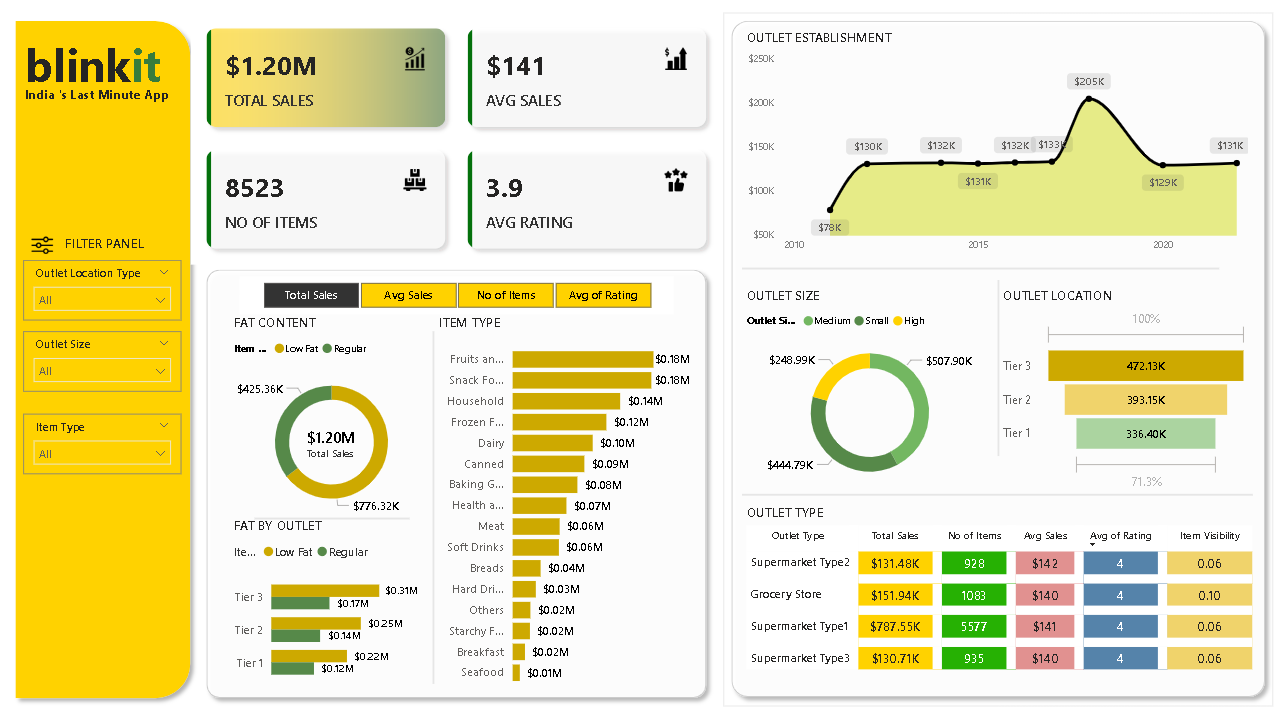

What the dashboard file says about the page in this screenshot:
{"tool":"powerbi","page":{"name":"Page 1","canvas":[1400,800],"ordinal":0},"visuals":[{"type":"shape","box":[31.5,30,205.6,744.4],"z":0},{"type":"textbox","box":[46.5,46.5,162.1,76.5],"z":1000},{"type":"textbox","box":[46.5,103.6,169.6,39],"z":2000},{"type":"cardVisual","fields":{"Data":["BlinkIT Grocery Data.Total Sales","BlinkIT Grocery Data.Avg Sales","BlinkIT Grocery Data.No of Items","BlinkIT Grocery Data.Avg of Rating"]},"box":[229.6,30,570.3,270.2],"z":3000},{"type":"shape","box":[237.1,295.7,553.8,477.3],"z":4000},{"type":"donutChart","title":"FAT CONTENT","fields":{"Y":["BlinkIT Grocery Data.Total Sales"],"Category":["BlinkIT Grocery Data.Item Fat Content"]},"box":[270.2,352.7,219.1,229.6],"z":5000},{"type":"slicer","fields":{"Values":["Metrics.Metrics"]},"box":[282.2,312.2,465.3,40.5],"z":6000},{"type":"cardVisual","fields":{"Data":["BlinkIT Grocery Data.Total Sales"]},"box":[322.7,445.8,112.6,88.6],"z":7000},{"type":"clusteredBarChart","title":"FAT BY OUTLET","fields":{"Y":["BlinkIT Grocery Data.Total Sales"],"Category":["BlinkIT Grocery Data.Outlet Location Type"],"Series":["BlinkIT Grocery Data.Item Fat Content"]},"box":[270.2,570.3,207.1,190.6],"z":8000},{"type":"shape","box":[297.2,505.8,166.6,133.6],"z":9000},{"type":"shape","box":[406.7,370.7,166.6,378.2],"z":10000},{"type":"barChart","title":"ITEM TYPE","fields":{"Y":["BlinkIT Grocery Data.Total Sales"],"Category":["BlinkIT Grocery Data.Item Type"]},"box":[490.8,352.7,282.2,408.2],"z":11000},{"type":"shape","box":[800,30,589.8,742.9],"z":12000},{"type":"lineChart","title":"OUTLET ESTABLISHMENT","fields":{"Category":["BlinkIT Grocery Data.Outlet Establishment Year"],"Y":["BlinkIT Grocery Data.Total Sales"]},"box":[821,46.5,547.8,249.1],"z":13000},{"type":"shape","box":[821,237.1,511.8,133.6],"z":14000},{"type":"donutChart","title":"OUTLET SIZE","fields":{"Y":["BlinkIT Grocery Data.Total Sales"],"Category":["BlinkIT Grocery Data.Outlet Size"]},"box":[821,322.7,274.7,225.1],"z":15000},{"type":"shape","box":[1011.6,316.7,166.6,189.1],"z":16000},{"type":"funnel","title":"OUTLET LOCATION","fields":{"Category":["BlinkIT Grocery Data.Outlet Location Type"],"Y":["Sum(BlinkIT Grocery Data.Sales)"]},"box":[1095.6,322.7,273.2,225.1],"z":17000},{"type":"shape","box":[821,480.3,547.8,133.6],"z":18000},{"type":"pivotTable","title":"OUTLET TYPE","fields":{"Rows":["BlinkIT Grocery Data.Outlet Type"],"Values":["BlinkIT Grocery Data.Total Sales","BlinkIT Grocery Data.No of Items","BlinkIT Grocery Data.Avg Sales","BlinkIT Grocery Data.Avg of Rating","Avg(BlinkIT Grocery Data.Item Visibility)"]},"box":[821,556.8,568.8,192.1],"z":19000},{"type":"slicer","fields":{"Values":["BlinkIT Grocery Data.Outlet Location Type"]},"box":[50.1,295.1,169.6,64.5],"z":20000},{"type":"slicer","fields":{"Values":["BlinkIT Grocery Data.Outlet Size"]},"box":[50.1,371.6,169.6,64.5],"z":21000},{"type":"slicer","fields":{"Values":["BlinkIT Grocery Data.Item Type"]},"box":[50.1,460.2,169.6,64.5],"z":22000},{"type":"textbox","box":[90.1,262.7,112.6,33],"z":23000},{"type":"image","box":[49.5,262.7,40.5,33],"z":24000}]}

Visuals, with their boxes in screenshot pixels (x1, y1, x2, y2), scaled from the page's 1400x800 canvas onto the 1280x716 screenshot:
shape: left=29, top=27, right=217, bottom=693
textbox: left=43, top=42, right=191, bottom=110
textbox: left=43, top=93, right=198, bottom=128
cardVisual - BlinkIT Grocery Data.Total Sales x BlinkIT Grocery Data.Avg Sales: left=210, top=27, right=731, bottom=269
shape: left=217, top=265, right=723, bottom=692
"FAT CONTENT" donutChart: left=247, top=316, right=447, bottom=521
slicer - Metrics.Metrics: left=258, top=279, right=683, bottom=316
cardVisual - BlinkIT Grocery Data.Total Sales: left=295, top=399, right=398, bottom=478
"FAT BY OUTLET" clusteredBarChart: left=247, top=510, right=436, bottom=681
shape: left=272, top=453, right=424, bottom=572
shape: left=372, top=332, right=524, bottom=670
"ITEM TYPE" barChart: left=449, top=316, right=707, bottom=681
shape: left=731, top=27, right=1271, bottom=692
"OUTLET ESTABLISHMENT" lineChart: left=751, top=42, right=1251, bottom=265
shape: left=751, top=212, right=1219, bottom=332
"OUTLET SIZE" donutChart: left=751, top=289, right=1002, bottom=490
shape: left=925, top=283, right=1077, bottom=453
"OUTLET LOCATION" funnel: left=1002, top=289, right=1251, bottom=490
shape: left=751, top=430, right=1251, bottom=549
"OUTLET TYPE" pivotTable: left=751, top=498, right=1271, bottom=670
slicer - BlinkIT Grocery Data.Outlet Location Type: left=46, top=264, right=201, bottom=322
slicer - BlinkIT Grocery Data.Outlet Size: left=46, top=333, right=201, bottom=390
slicer - BlinkIT Grocery Data.Item Type: left=46, top=412, right=201, bottom=470
textbox: left=82, top=235, right=185, bottom=265
image: left=45, top=235, right=82, bottom=265
